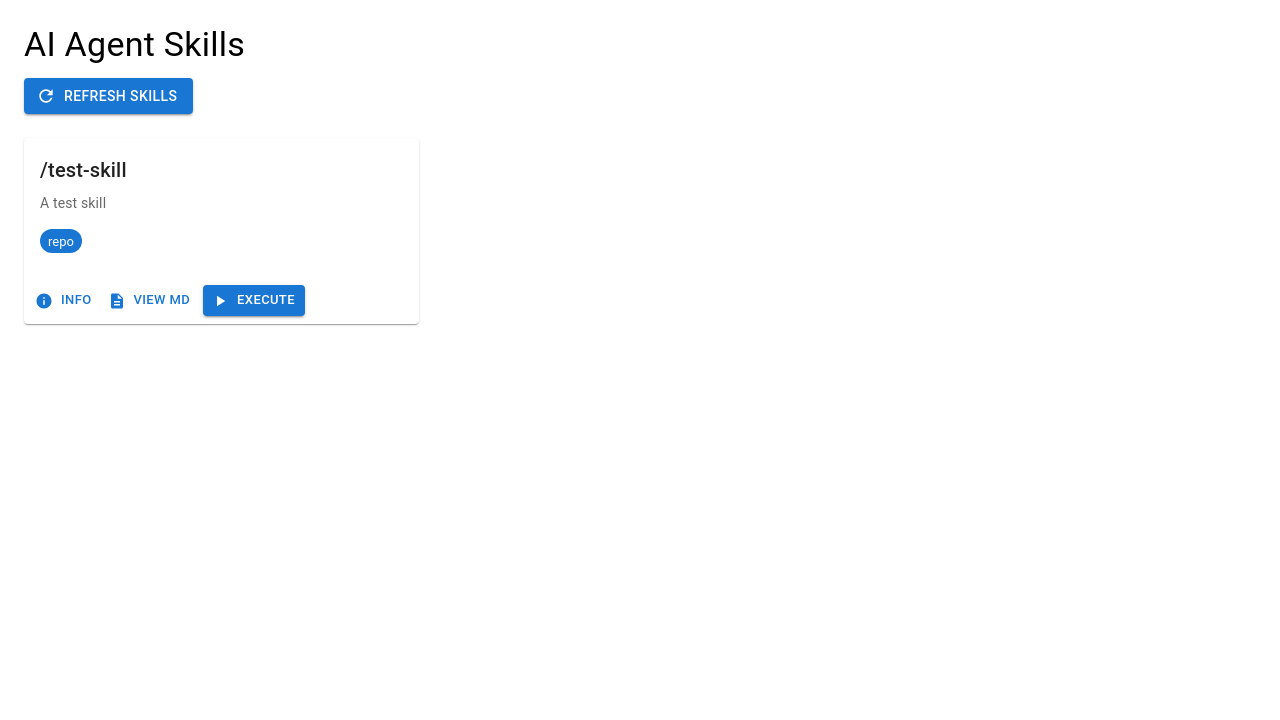
Test: SkillsManagement › opens execution dialog when clicking Execute
Click the button "Execute".
click(254, 301)  # box [203,285,305,316]
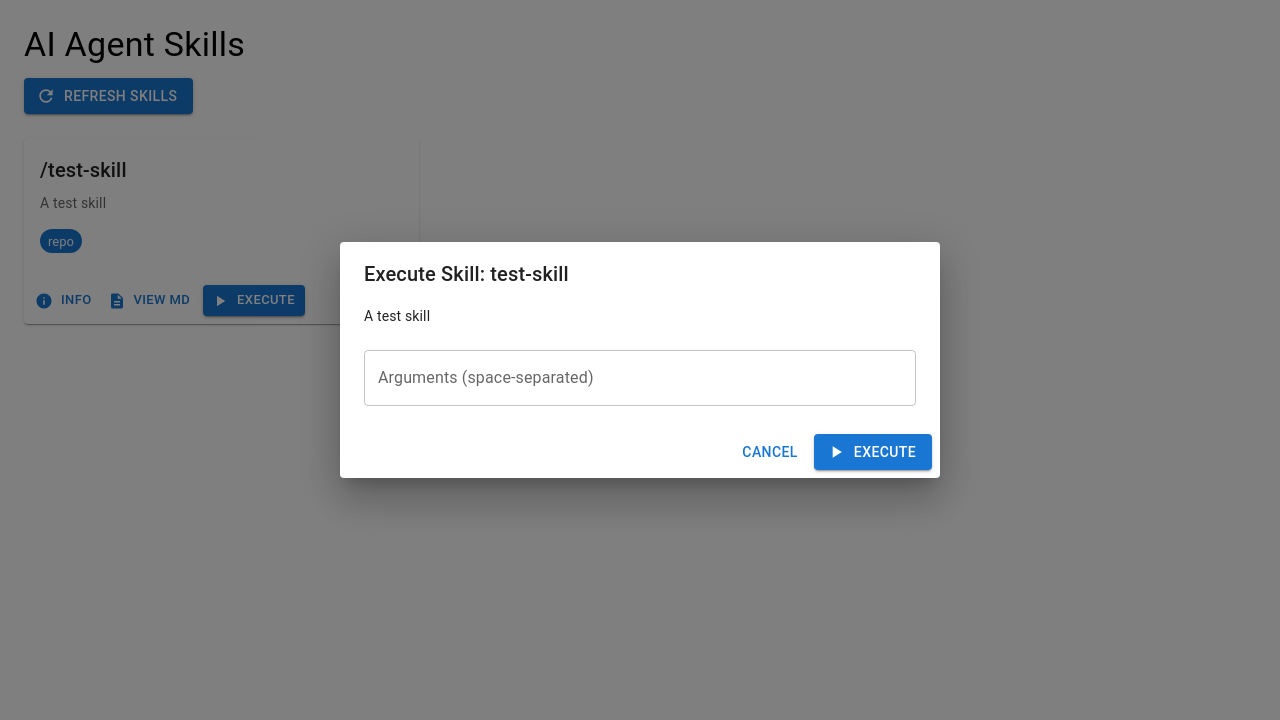
Expected: the heading "Execute Skill: test-skill" is shown, [364,262,569,286]
